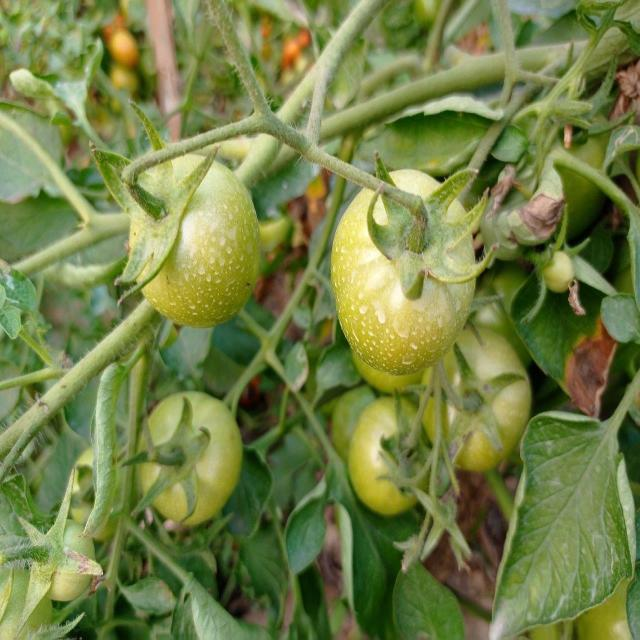Unripe: (331, 167, 476, 376), (127, 146, 260, 330), (135, 388, 244, 525)
